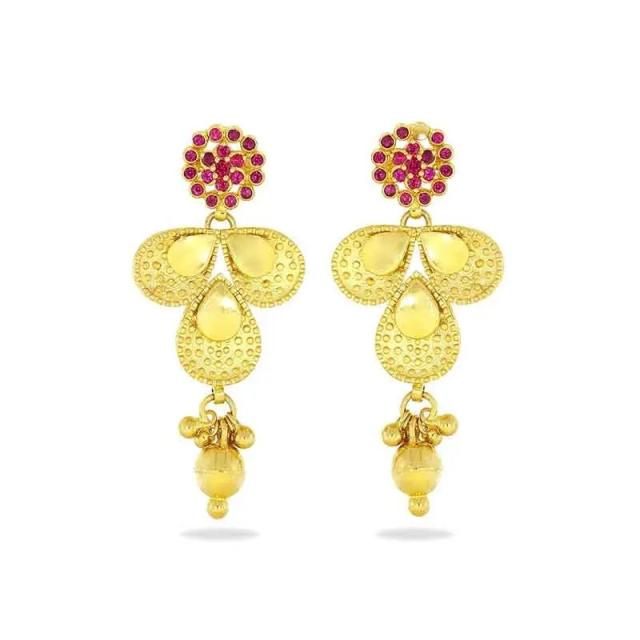missing gem: (414, 124, 427, 139)
